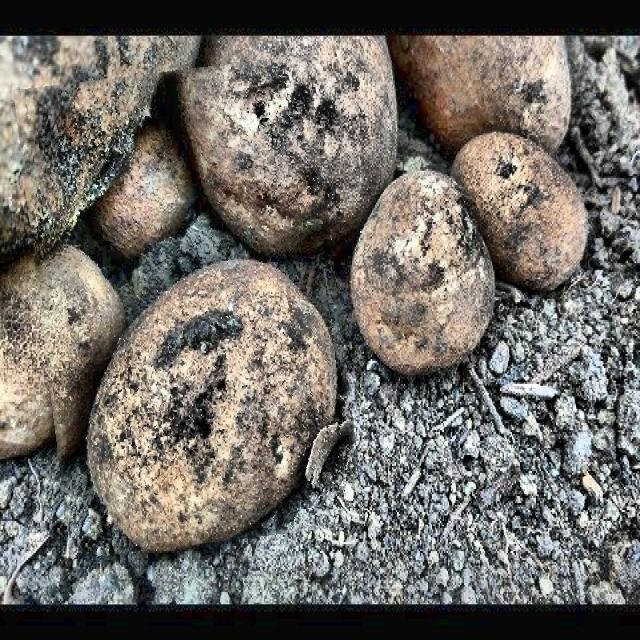potato: (27, 62, 352, 551)
